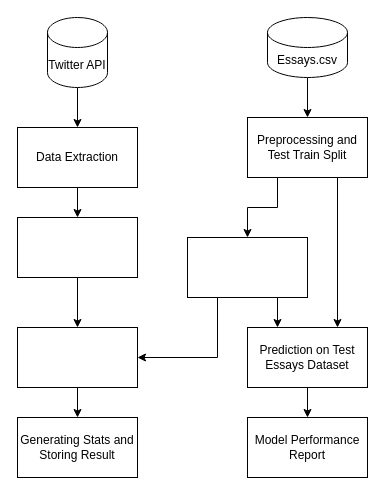
This 385x495 diagram has some shape labels left out. The shapes that lost their labels are listed below. From the top down, each one's box as (x1, y1, x2, y2) in pixels, then its label:
(16, 216, 138, 278): Data Preprocessing/ Cleaning
(186, 236, 308, 298): Training the model Using Essays Training Dataset
(16, 326, 138, 388): Predicting Personalities for Twitter Dataset
